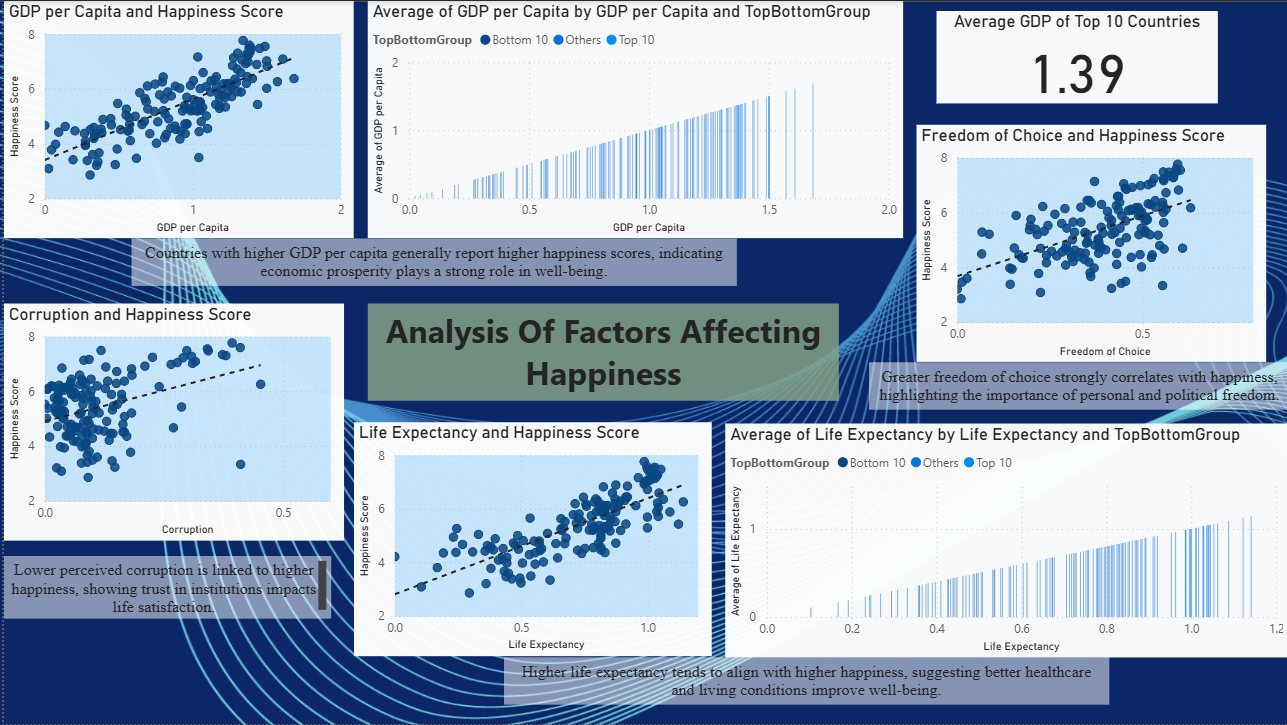

This screenshot's page, from the dashboard's own definition file:
{"tool":"powerbi","page":{"name":"Page 2","canvas":[1280,720],"ordinal":1},"visuals":[{"type":"scatterChart","fields":{"X":["2019.GDP per Capita"],"Y":["2019.Happiness Score"]},"box":[0,0,348.3,236.4],"z":0},{"type":"scatterChart","fields":{"X":["2019.Life Expectancy"],"Y":["2019.Happiness Score"]},"box":[348.3,419.2,355.8,232.6],"z":1000},{"type":"scatterChart","fields":{"Y":["2019.Happiness Score"],"X":["2019.Freedom of Choice"]},"box":[908.1,123.2,348.3,236.4],"z":2000},{"type":"scatterChart","fields":{"Y":["2019.Happiness Score"],"X":["2019.Corruption"]},"box":[0,301,338.4,236.4],"z":3000},{"type":"clusteredColumnChart","fields":{"Category":["2019.GDP per Capita"],"Y":["Avg(2019.GDP per Capita)"],"Series":["2019.TopBottomGroup"]},"box":[362,0,532.4,236.4],"z":4000},{"type":"clusteredColumnChart","fields":{"Category":["2019.Life Expectancy"],"Y":["Avg(2019.Life Expectancy)"],"Series":["2019.TopBottomGroup"]},"box":[717.8,420.5,562.3,232.6],"z":5000},{"type":"card","title":"Average GDP of Top 10 Countries","fields":{"Values":["2019.AvgGDP_Top10"]},"box":[928,10,279.9,92.1],"z":6000},{"type":"textbox","box":[126.9,236.4,602.1,47.3],"z":7000},{"type":"textbox","box":[860.8,359.5,419.2,47.3],"z":8000},{"type":"textbox","box":[497.6,653.1,602.1,47.3],"z":9000},{"type":"textbox","box":[0,552.3,325.9,62.2],"z":10000},{"type":"textbox","box":[362,301,469,97],"z":11000}]}

Visuals, with their boxes in screenshot pixels (x1, y1, x2, y2), scaled from the page's 1280x720 canvas onto the 1287x725 screenshot:
scatterChart - 2019.GDP per Capita x 2019.Happiness Score: crop(0, 0, 350, 238)
scatterChart - 2019.Life Expectancy x 2019.Happiness Score: crop(350, 422, 708, 656)
scatterChart - 2019.Happiness Score x 2019.Freedom of Choice: crop(913, 124, 1263, 362)
scatterChart - 2019.Happiness Score x 2019.Corruption: crop(0, 303, 340, 541)
clusteredColumnChart - 2019.GDP per Capita x Avg(2019.GDP per Capita): crop(364, 0, 899, 238)
clusteredColumnChart - 2019.Life Expectancy x Avg(2019.Life Expectancy): crop(722, 423, 1286, 658)
"Average GDP of Top 10 Countries" card: crop(933, 10, 1215, 103)
textbox: crop(128, 238, 733, 286)
textbox: crop(866, 362, 1286, 410)
textbox: crop(500, 658, 1106, 705)
textbox: crop(0, 556, 328, 619)
textbox: crop(364, 303, 836, 401)
